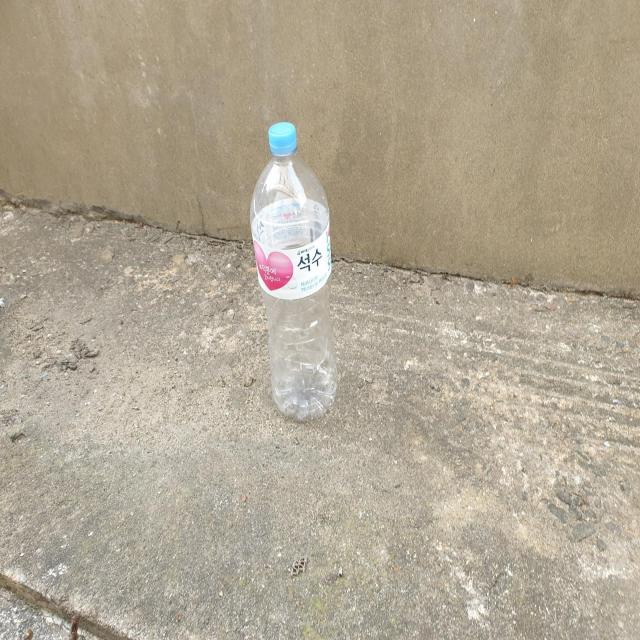plastic: (250, 121, 337, 421)
